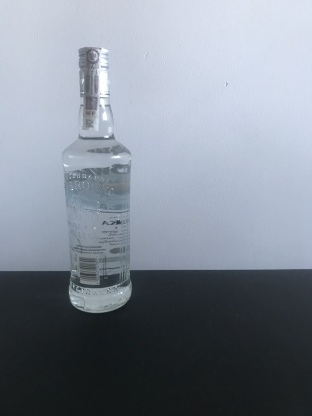nakretka: (75, 43, 113, 101)
